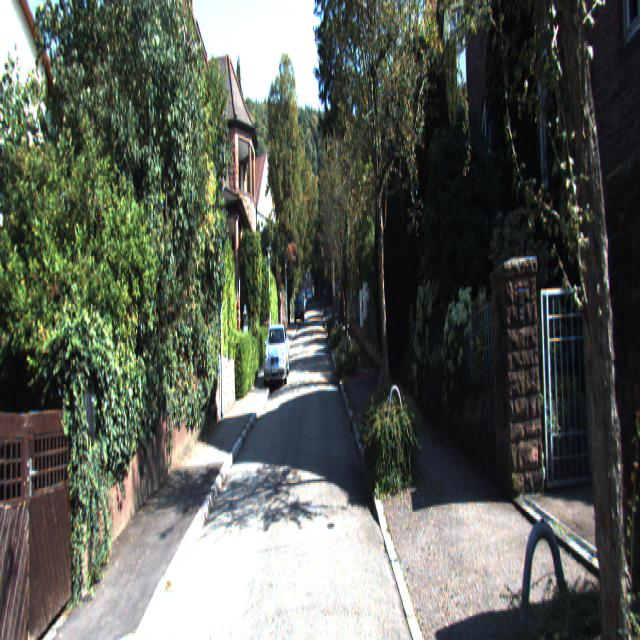Car: (263, 323, 289, 389), (294, 290, 304, 324)
